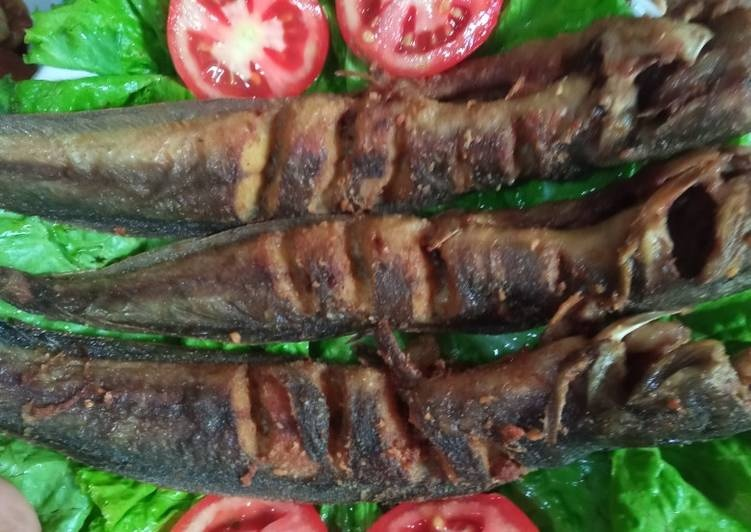pecel_lele: (35, 337, 749, 490), (3, 75, 605, 226), (37, 216, 626, 327)
